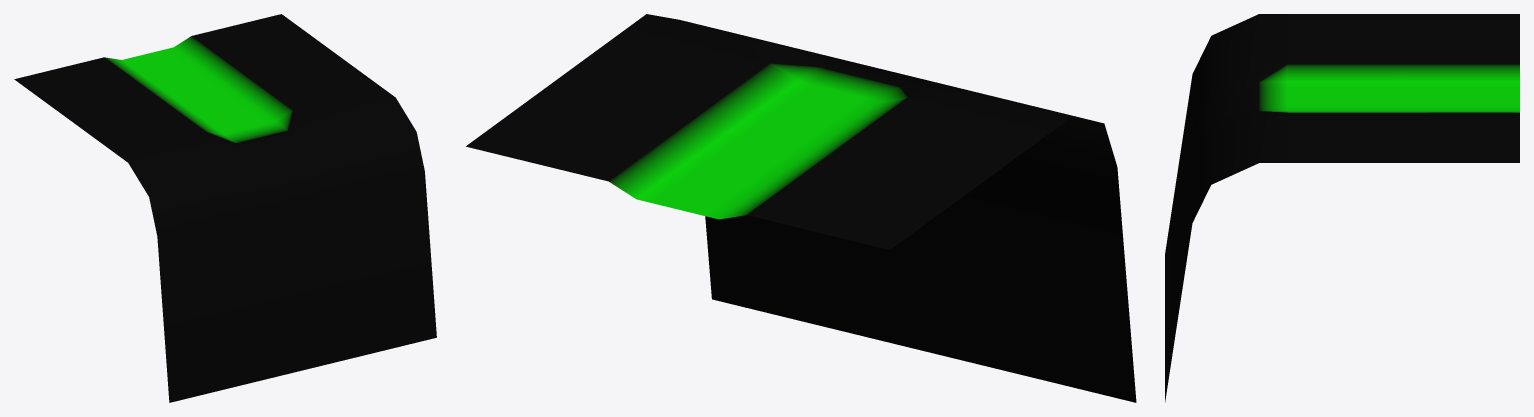
Rendered from SM_Ground_8m_Cliff_Pathway.FBX.
The picture shows the model from 3 angles, left to right: view 1: azimuth 30°, elevation 25°; view 2: azimuth 150°, elevation 25°; view 3: azimuth 270°, elevation 25°; orthographic projection. The views are drawn at different scales.
Visible parts, largest first — view 1: SM_Ground_8m_Cliff_Pathway; view 2: SM_Ground_8m_Cliff_Pathway; view 3: SM_Ground_8m_Cliff_Pathway.
Part boxes in pixels (left/top/right/bottom): SM_Ground_8m_Cliff_Pathway: left=14, top=14, right=436, bottom=402; SM_Ground_8m_Cliff_Pathway: left=466, top=14, right=1136, bottom=402; SM_Ground_8m_Cliff_Pathway: left=1165, top=14, right=1519, bottom=402.
Size of the model in its own units: 800 by 804 by 600.
